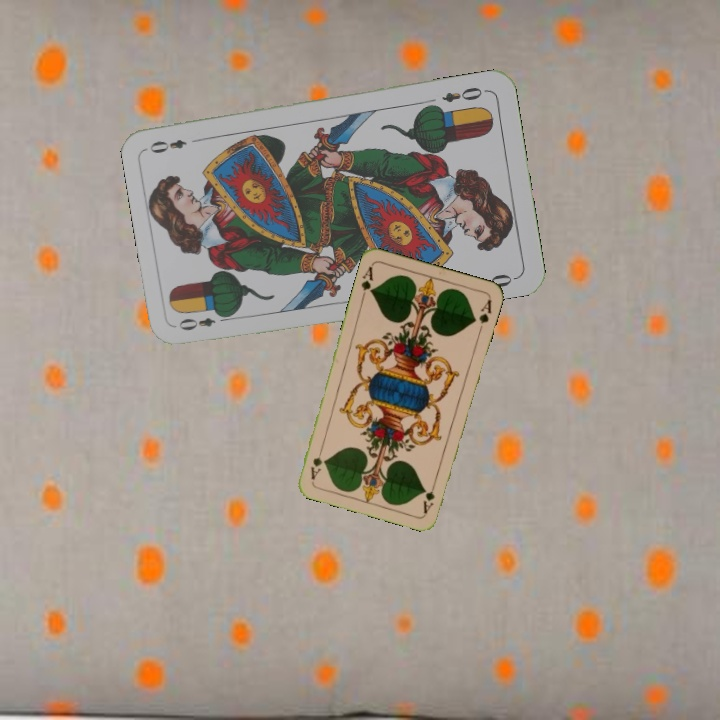EO: (174, 309, 233, 333), (438, 83, 490, 105)
GA: (419, 476, 439, 516), (357, 262, 376, 301)
